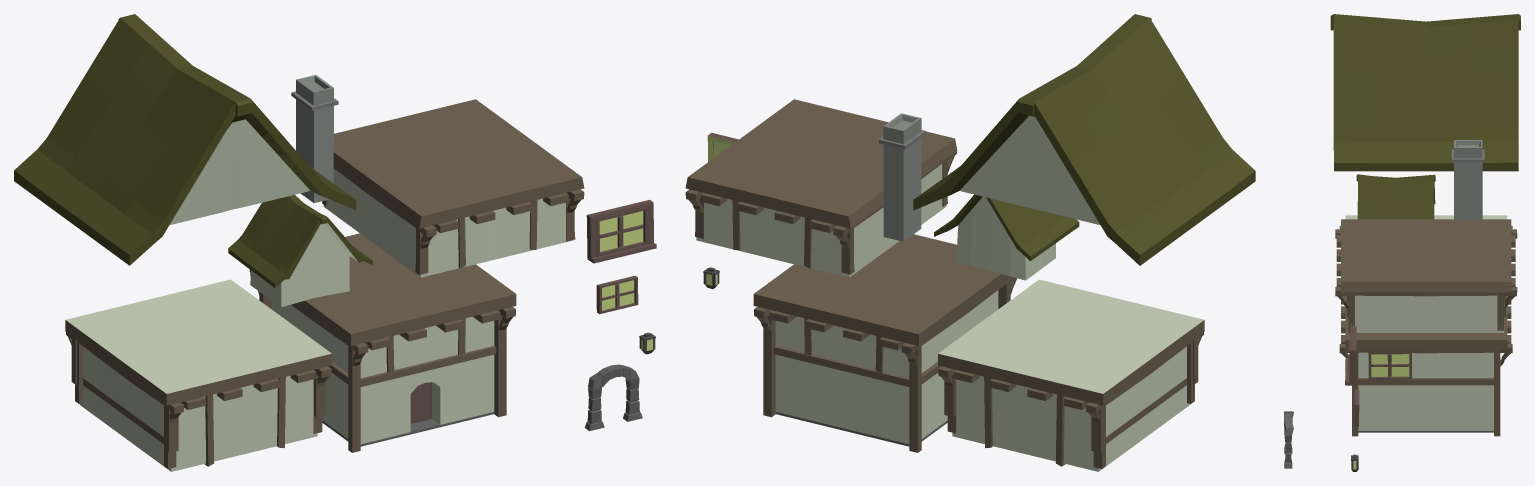
File: casa piezas.fbx
3 renders of one model, left to right at view 1: azimuth 30°, elevation 25°; view 2: azimuth 150°, elevation 25°; view 3: azimuth 270°, elevation 25°, orthographic. The views are drawn at different scales.
Visible parts, largest first — view 1: tejado, casa3, casa2, casa1, casita, chimenea, ventana, marco, ventana2; view 2: tejado, casa3, casa1, casa2, casita, chimenea; view 3: tejado, casa2, casa1, casita, chimenea, ventana, marco, casa3.
Part boxes in pixels (bbox=[...]): tejado: bbox=[14, 14, 356, 265]; casa3: bbox=[65, 279, 331, 471]; casa2: bbox=[322, 99, 584, 277]; casa1: bbox=[249, 233, 516, 452]; casita: bbox=[228, 194, 372, 307]; chimenea: bbox=[291, 75, 338, 202]; ventana: bbox=[586, 199, 656, 263]; marco: bbox=[584, 364, 642, 431]; ventana2: bbox=[596, 275, 638, 314]; tejado: bbox=[913, 14, 1255, 265]; casa3: bbox=[938, 279, 1204, 471]; casa1: bbox=[753, 234, 1016, 452]; casa2: bbox=[685, 99, 957, 277]; casita: bbox=[934, 194, 1079, 280]; chimenea: bbox=[879, 113, 925, 241]; tejado: bbox=[1330, 14, 1520, 171]; casa2: bbox=[1335, 219, 1517, 332]; casa1: bbox=[1339, 296, 1512, 436]; casita: bbox=[1356, 174, 1435, 219]; chimenea: bbox=[1451, 140, 1484, 219]; ventana: bbox=[1345, 326, 1356, 385]; marco: bbox=[1284, 411, 1293, 468]; casa3: bbox=[1339, 215, 1512, 229].
Size of the model in its own units: 2286 by 1589 by 1093.
